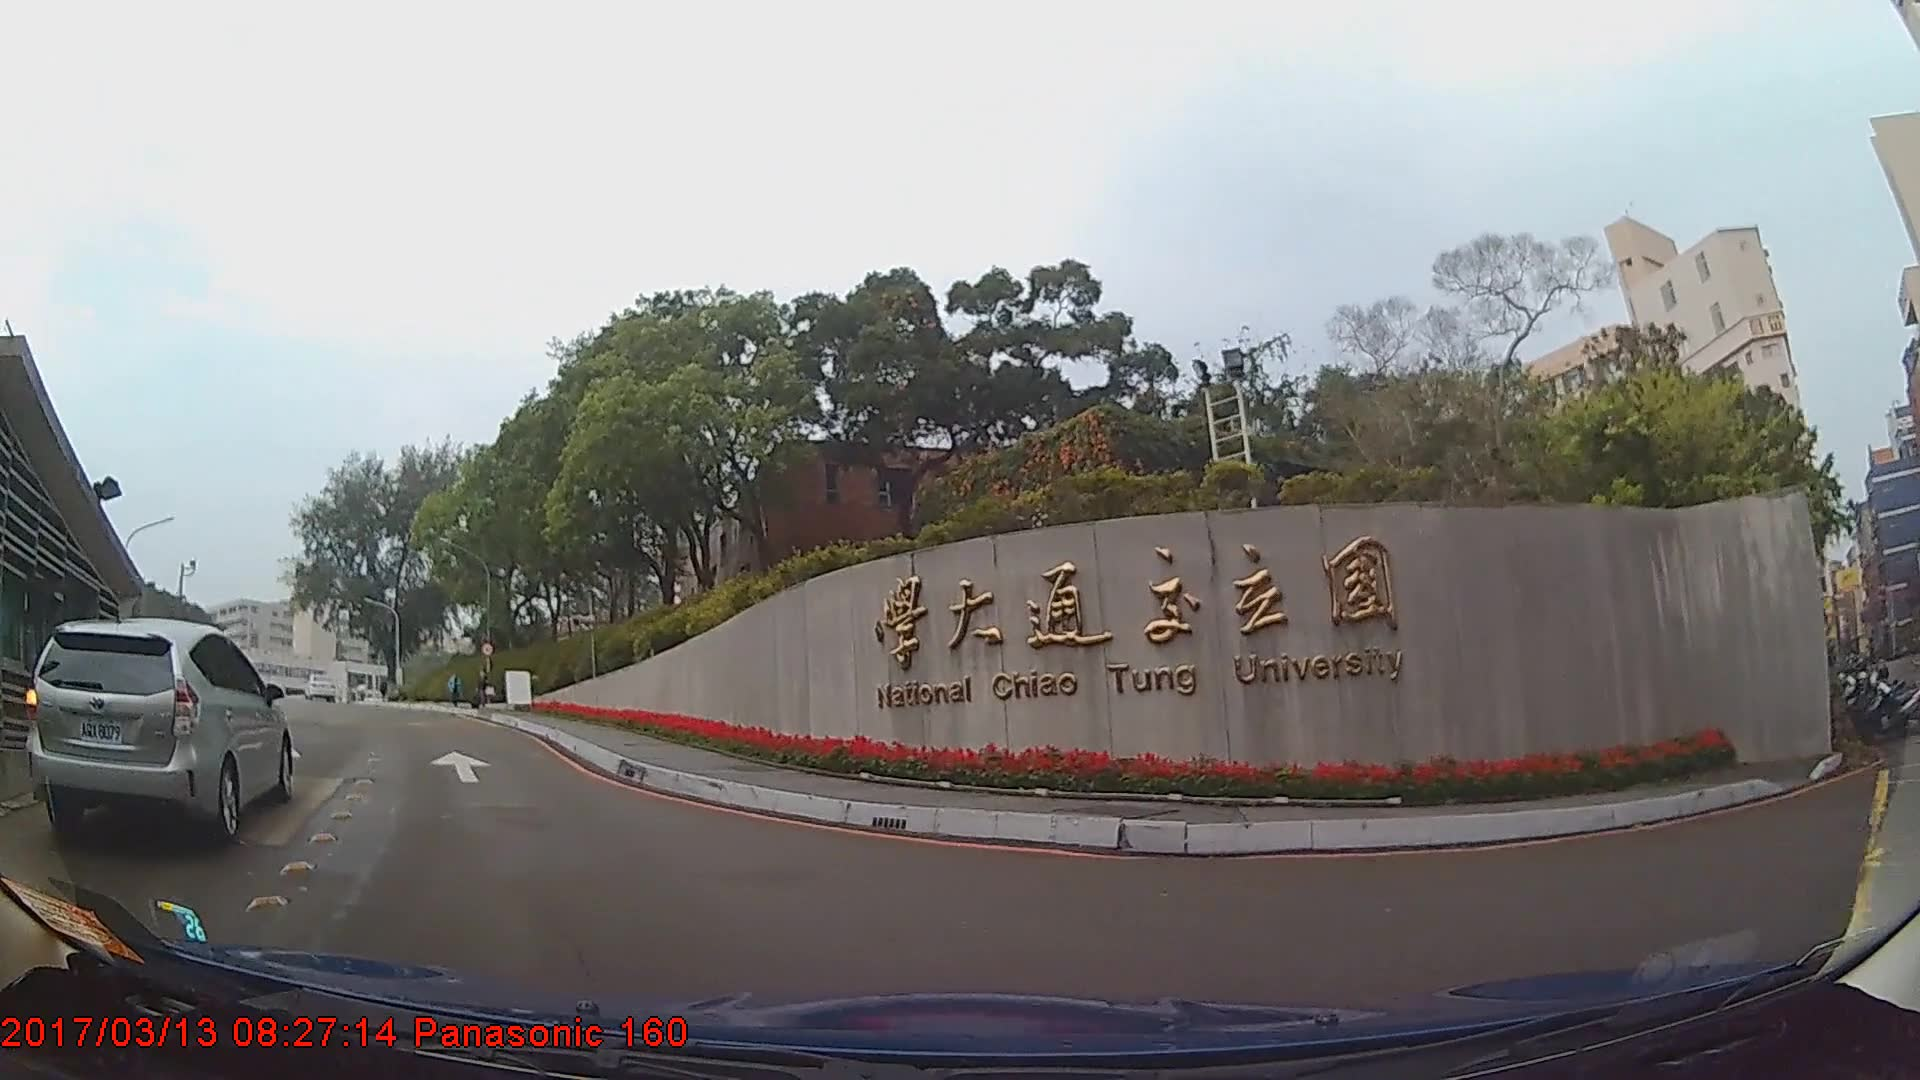vehicle: (26, 615, 294, 851), (303, 675, 336, 705)
